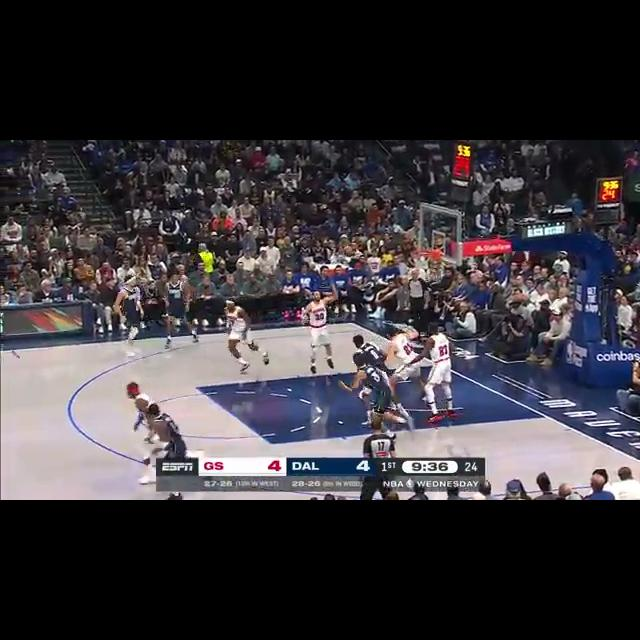Team-1-Player: (331, 352, 413, 450), (112, 272, 152, 360), (156, 270, 202, 346), (146, 404, 194, 456)
Team-2-Player: (405, 323, 461, 425), (296, 280, 344, 378), (214, 295, 274, 369), (370, 316, 424, 378)
